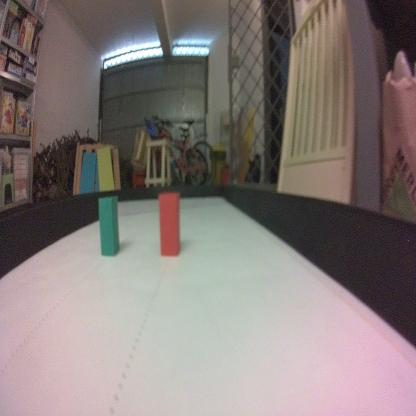green: (97, 192, 121, 258)
red: (157, 191, 181, 257)
